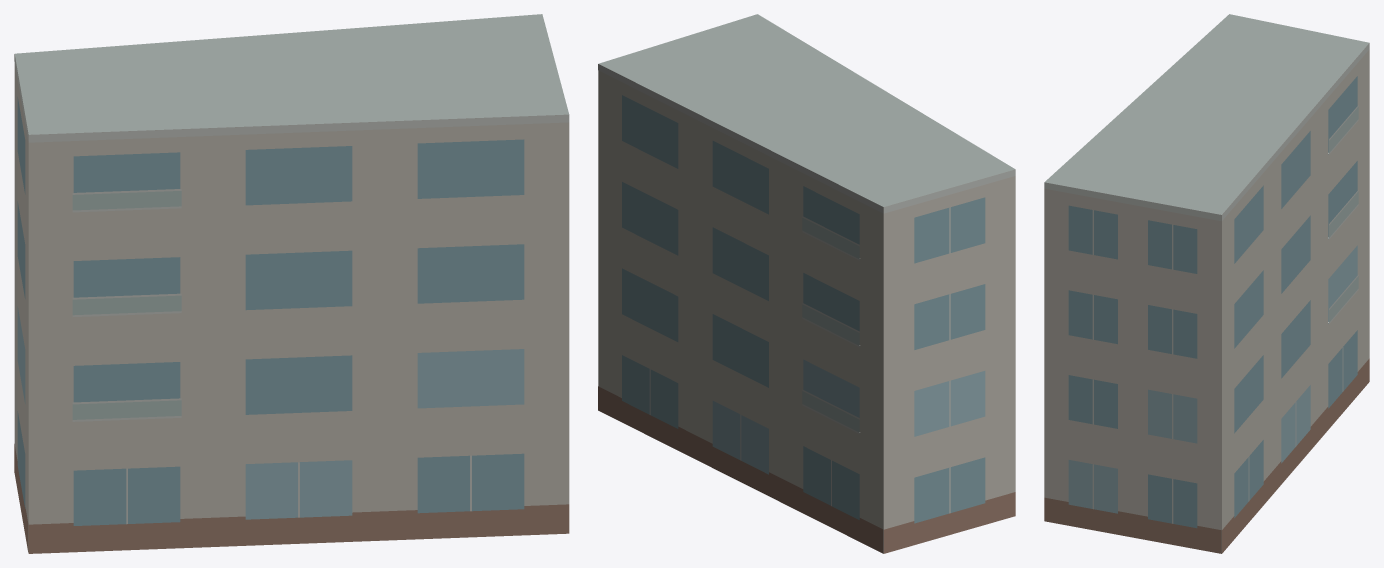
The model's file is survey-upis-32723704.glb.
The picture shows the model from 3 angles, left to right: view 1: azimuth 30°, elevation 25°; view 2: azimuth 150°, elevation 25°; view 3: azimuth 270°, elevation 25°; orthographic projection. The views are drawn at different scales.
Visible parts, largest first — view 1: survey-upis-32723704.tmp; view 2: survey-upis-32723704.tmp; view 3: survey-upis-32723704.tmp.
Boxes of the visible parts, box(x1,y1,x2,y2) form: survey-upis-32723704.tmp: box(14, 14, 569, 553); survey-upis-32723704.tmp: box(598, 14, 1015, 553); survey-upis-32723704.tmp: box(1044, 14, 1369, 553).
Size of the model in its own units: 16.54 by 13 by 11.32.
